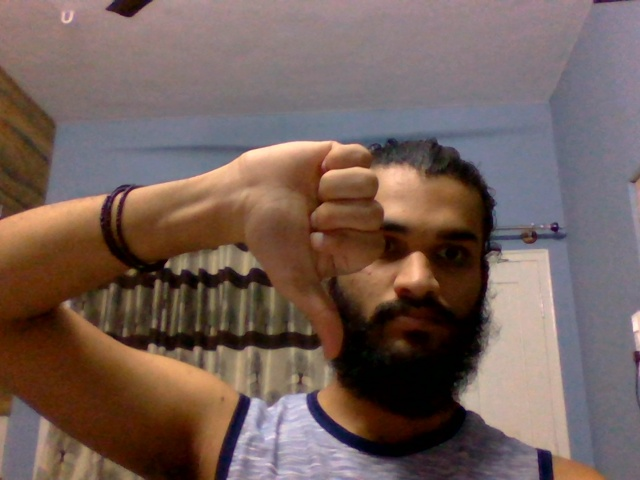ThumbsDown: (234, 139, 386, 361)
